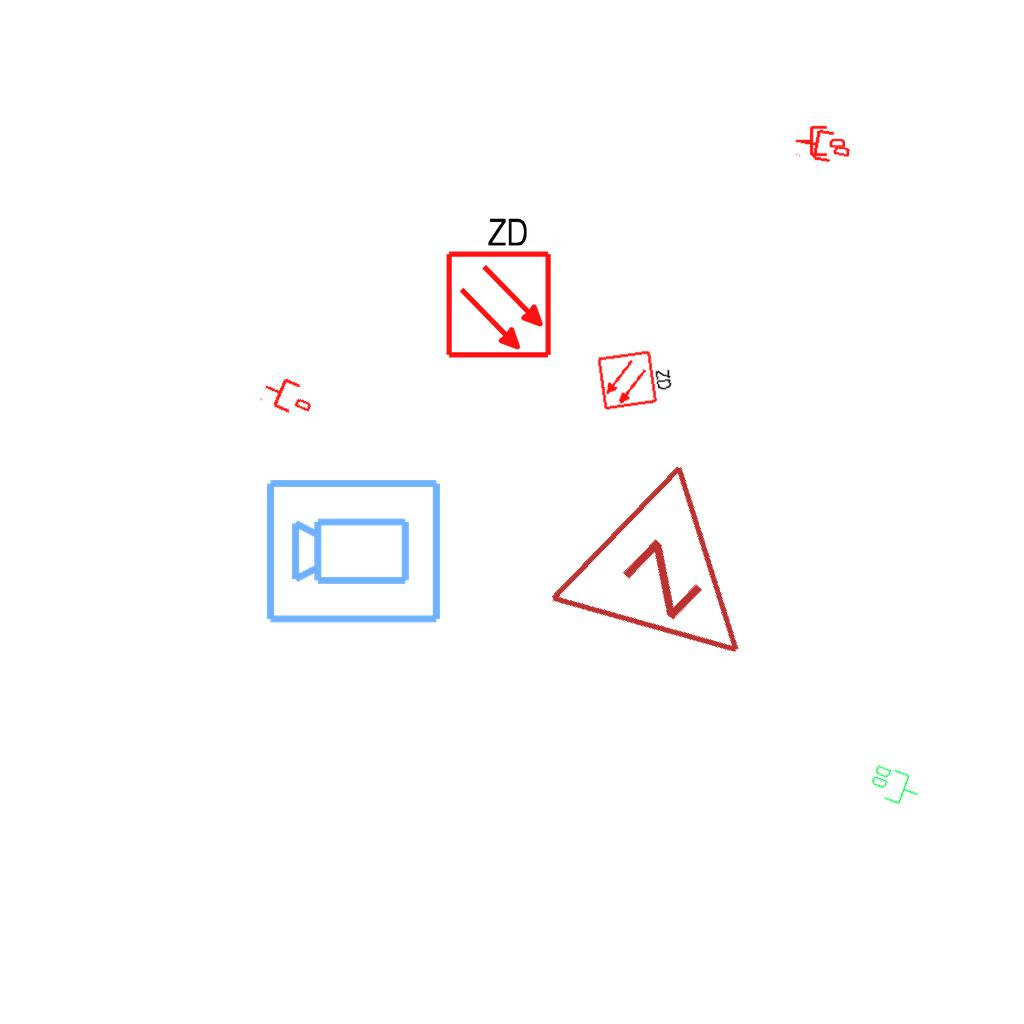Datenanschluss_einfach: (258, 370, 318, 422), (797, 124, 853, 168), (795, 124, 845, 158)
Datenanschluss_zweifach: (865, 761, 926, 811)
KFO_Kamera_mit_Festobjektiv: (263, 473, 445, 627)
ZD_Melder_in_Zwischendecke_mit_Revisionsoeffnung_mind_40_x_40_cm: (440, 211, 554, 360), (595, 344, 678, 412)
Zimmersignalleuchte: (536, 449, 818, 729)
